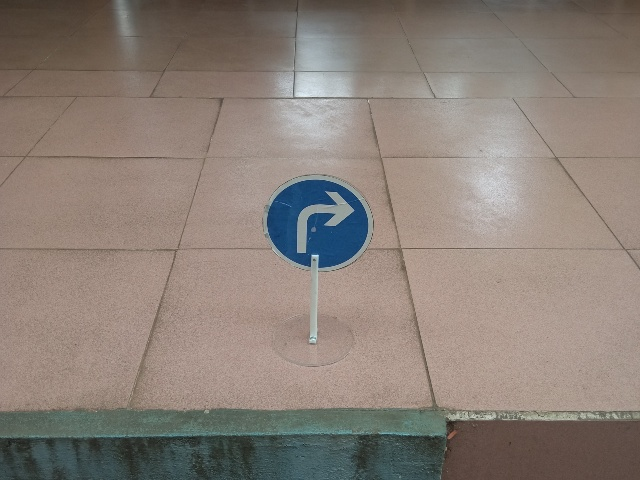Right_Sign: (264, 176, 373, 273)
